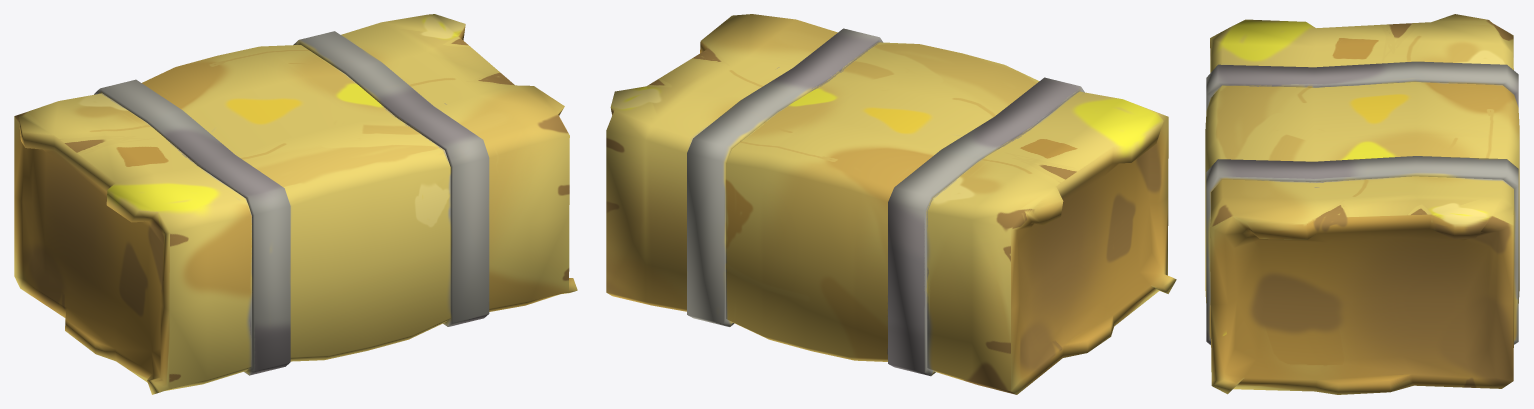
File: haybale.fbx
The picture shows the model from 3 angles, left to right: view 1: azimuth 30°, elevation 25°; view 2: azimuth 150°, elevation 25°; view 3: azimuth 270°, elevation 25°; orthographic projection. The views are drawn at different scales.
Parts seen in each view (by area): view 1: Cube; view 2: Cube; view 3: Cube.
Part boxes in pixels (<box>): Cube: <box>14,14,577,394</box>; Cube: <box>606,14,1176,394</box>; Cube: <box>1205,14,1519,394</box>.
Size of the model in its own units: 329 by 207 by 135.
